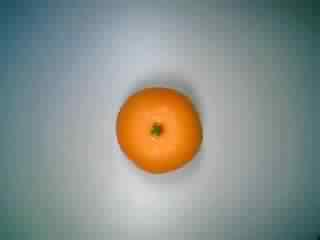orange: (108, 81, 206, 179)
